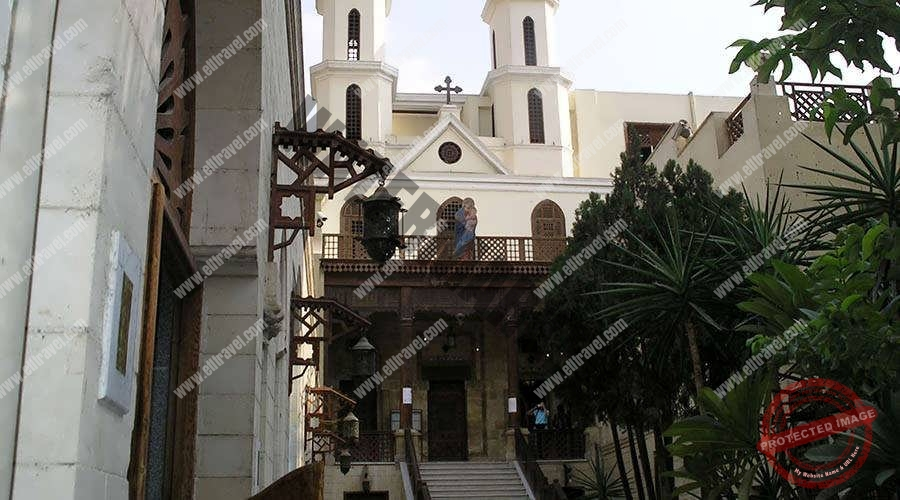Church: (293, 7, 586, 247)
